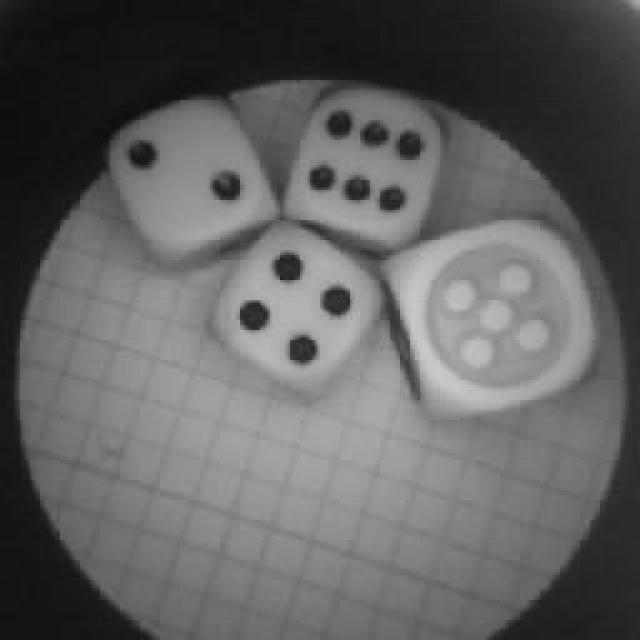dice_2: (100, 90, 288, 270)
dice_4: (213, 217, 395, 405)
dice_5: (372, 212, 600, 428)
dice_6: (288, 80, 450, 250)
